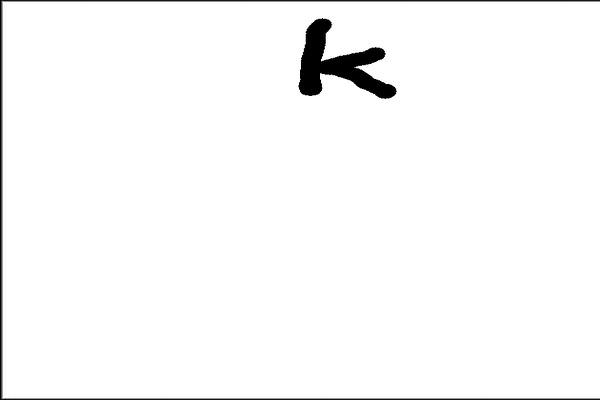K: (292, 12, 404, 110)
